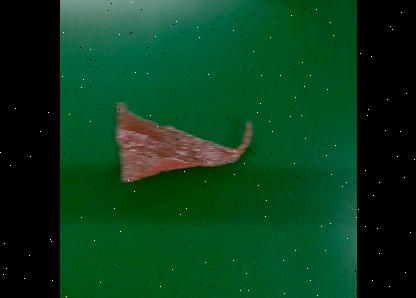Others: (114, 101, 254, 183)
